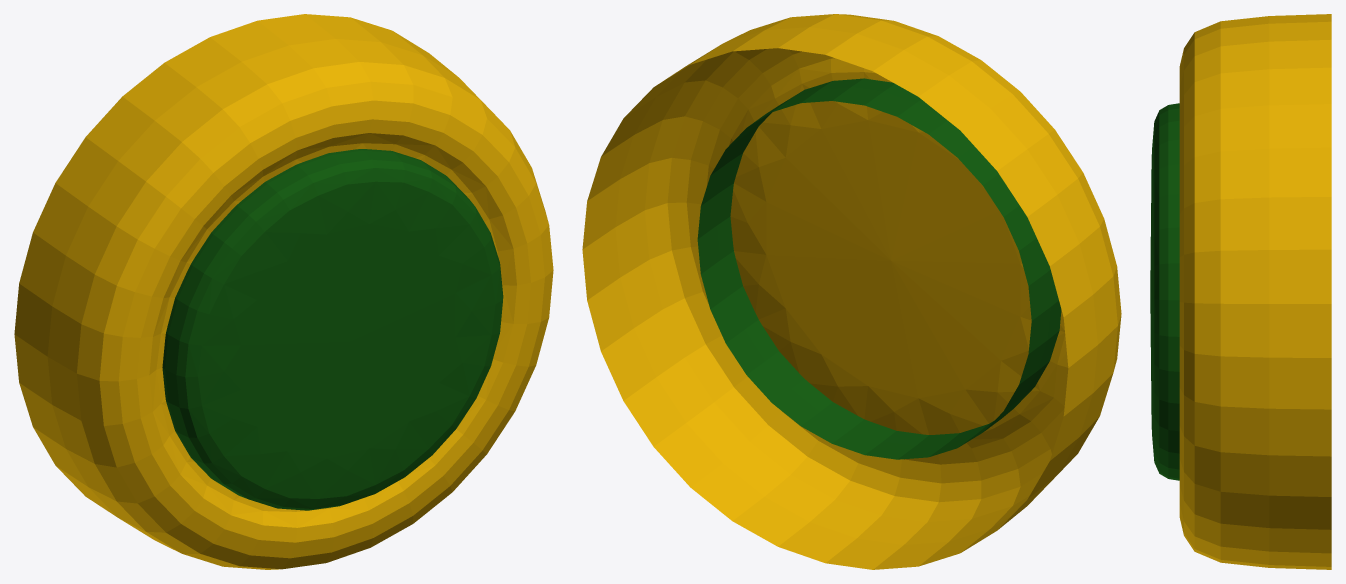
Rendered from Button.fbx.
The picture shows the model from 3 angles, left to right: view 1: azimuth 30°, elevation 25°; view 2: azimuth 150°, elevation 25°; view 3: azimuth 270°, elevation 25°; orthographic projection.
Visible parts, largest first — view 1: ButtonHolder, Button; view 2: ButtonHolder, Button; view 3: ButtonHolder, Button.
Boxes of the visible parts, bbox=[...] form: ButtonHolder: bbox=[14, 14, 553, 569]; Button: bbox=[162, 149, 503, 510]; ButtonHolder: bbox=[582, 14, 1121, 569]; Button: bbox=[697, 78, 1061, 459]; ButtonHolder: bbox=[1179, 14, 1331, 569]; Button: bbox=[1150, 103, 1179, 480].
Bounding box in the file's own units: 21.44 × 21.44 × 6.99.
